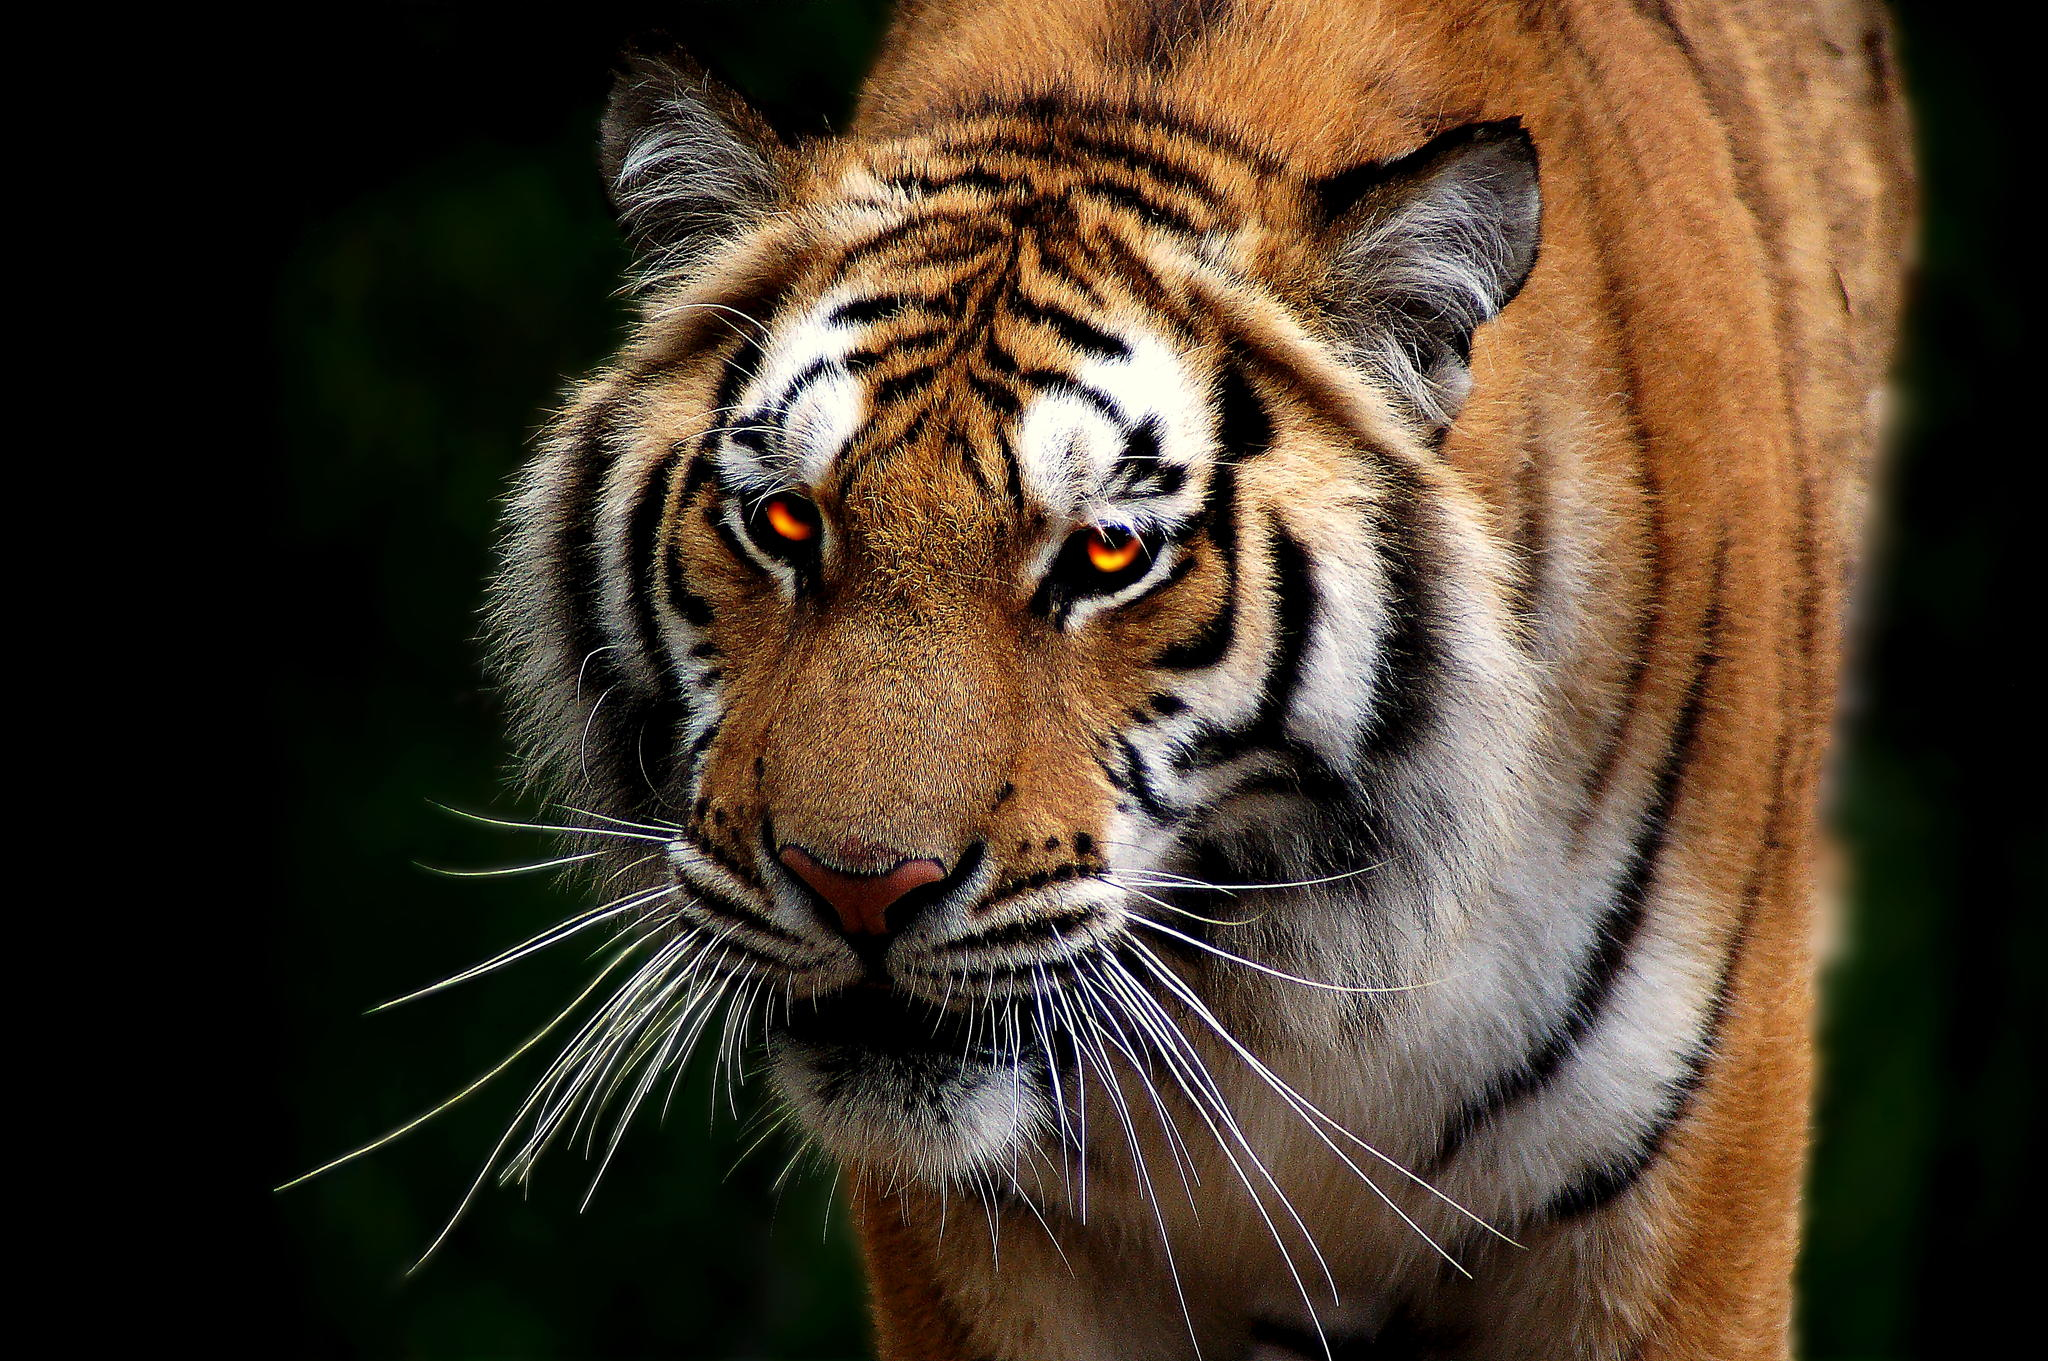tiger: (380, 71, 1779, 1233)
